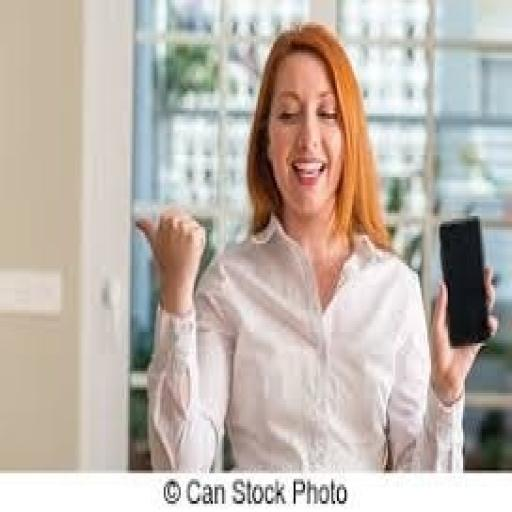texting: (132, 20, 499, 474)
